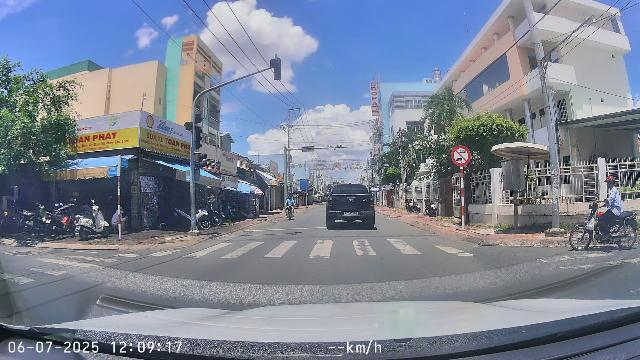107-cam-oto-khach-va-oto-tai: (451, 145, 471, 166)
